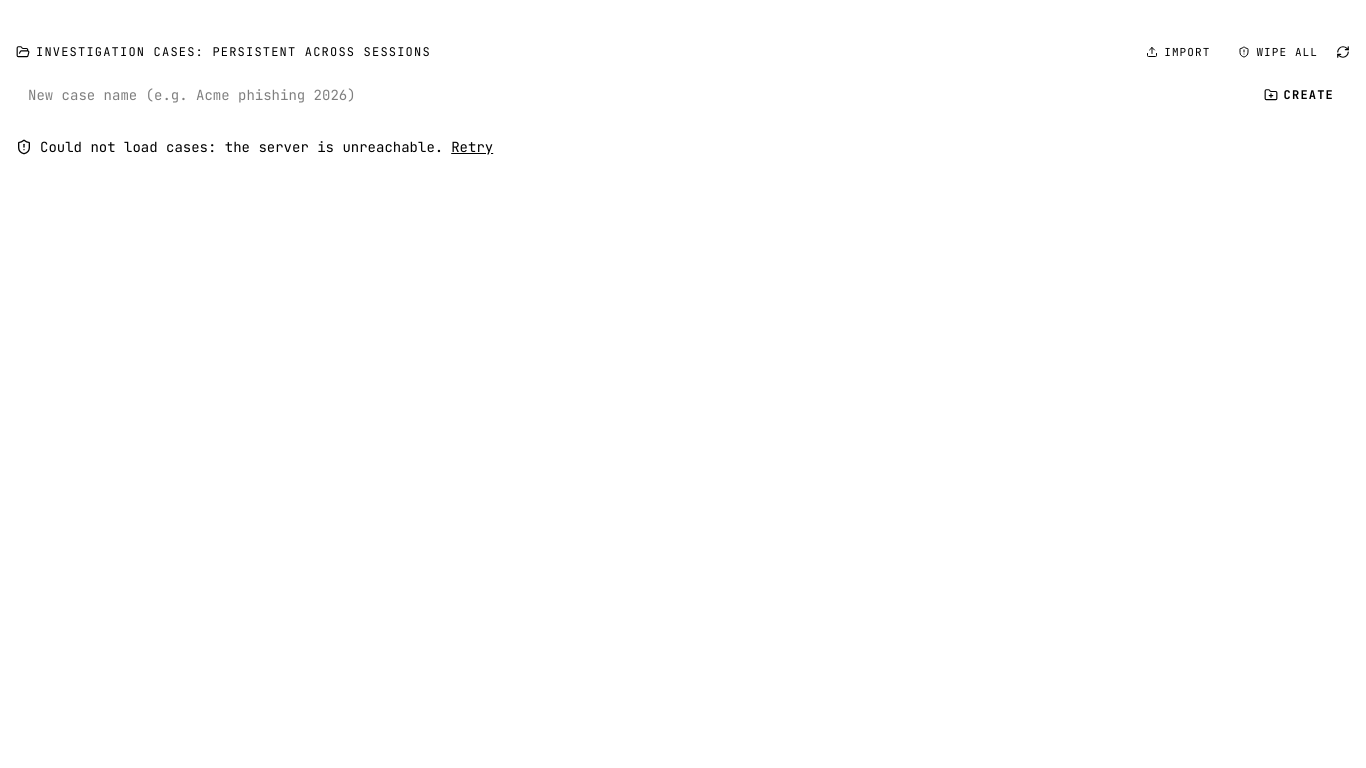
<CasesPanel> loading + list › surfaces a load failure instead of claiming there are no cases, and retries
Expected: the text "Could not load cases: the server is unreachable. Retry" is shown, [16, 136, 493, 156]
Click the button "Retry" at [472, 146], box [451, 136, 493, 156]
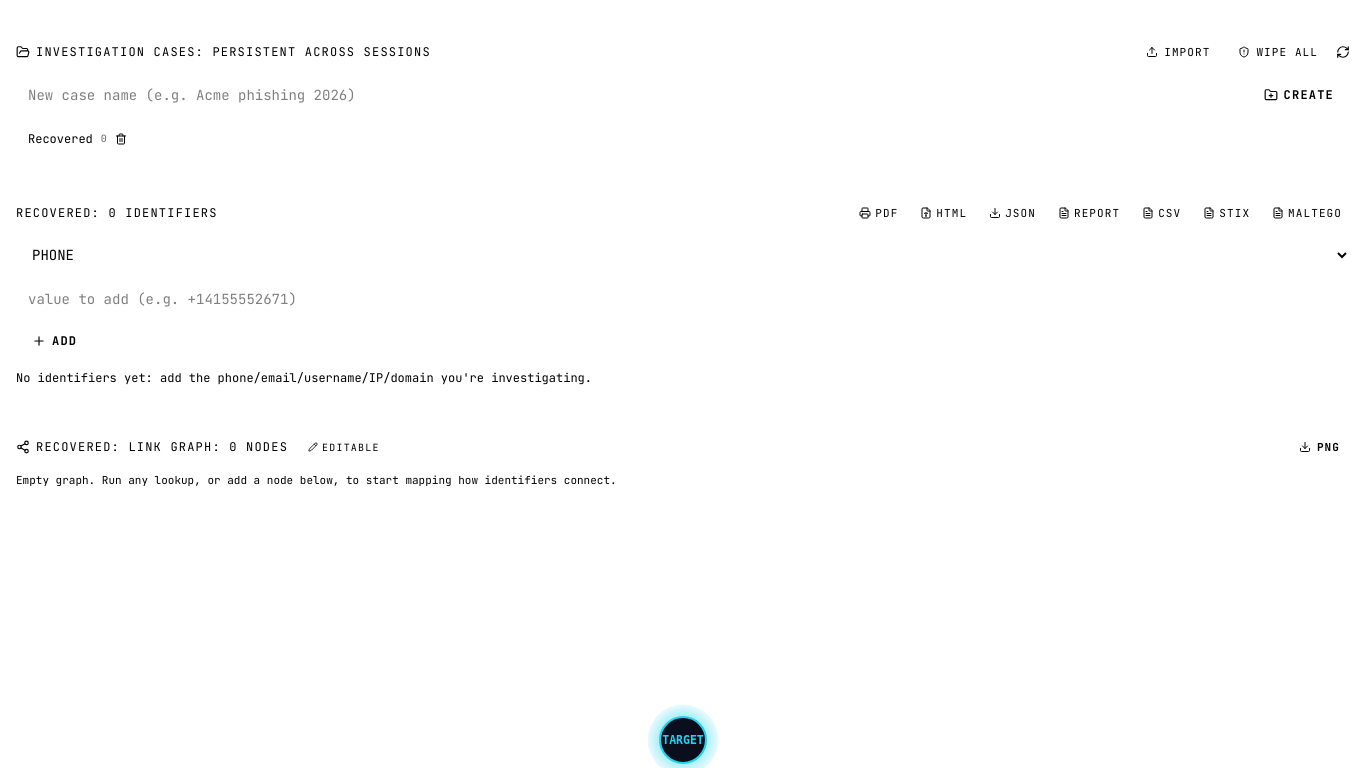
Result: the button "Recovered 0" is shown at [16, 124, 139, 152]
Result: the text "Could not load cases" is gone
